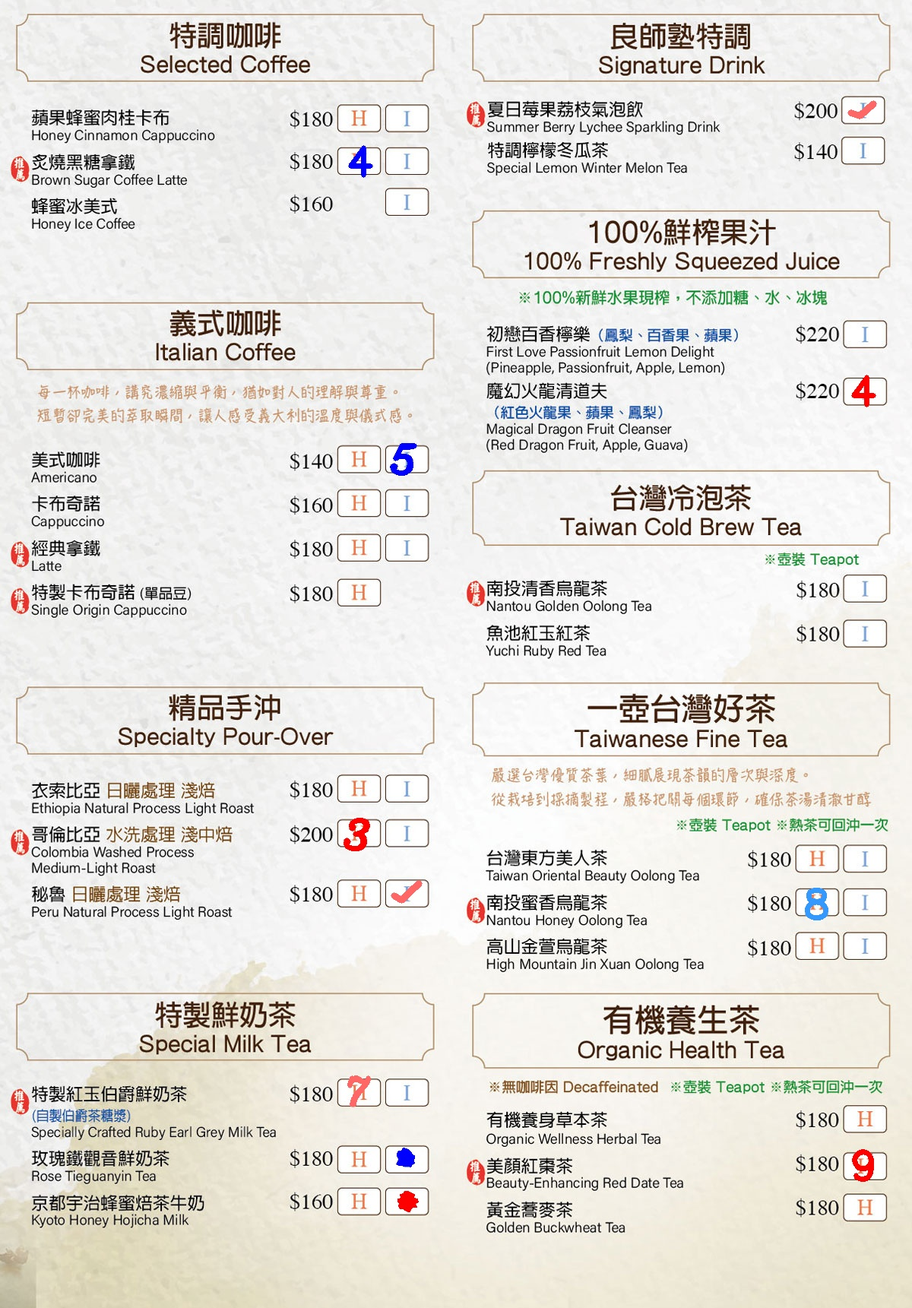marked_circle: (387, 1189, 426, 1212), (388, 1148, 426, 1171)
marked_number_3: (339, 822, 378, 845)
marked_number_4: (342, 149, 381, 173), (845, 378, 884, 402)
marked_number_5: (388, 446, 426, 470)
marked_number_7: (342, 1080, 381, 1104)
marked_number_8: (799, 892, 838, 915)
marked_number_9: (846, 1153, 885, 1177)
marked_tick: (844, 98, 883, 122), (387, 881, 426, 904)
